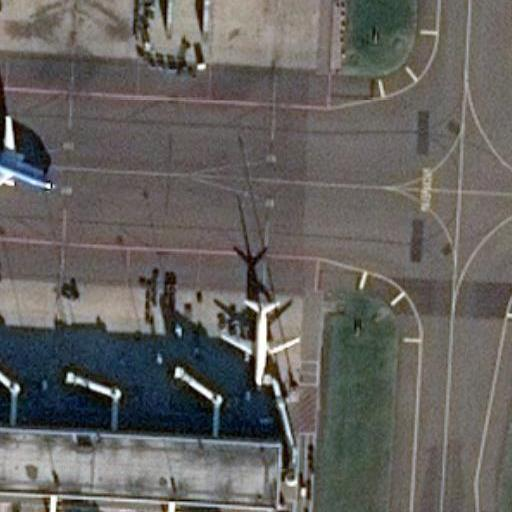Aircraft: (216, 290, 300, 385), (0, 110, 56, 206)
